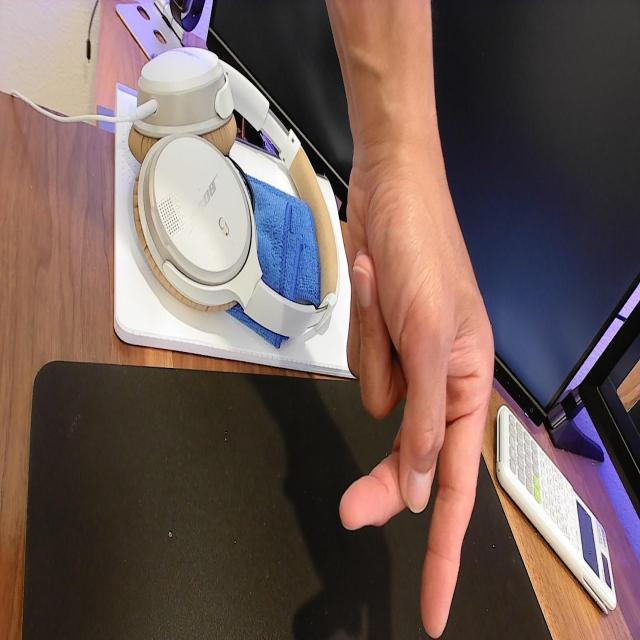P: (328, 174, 496, 640)
